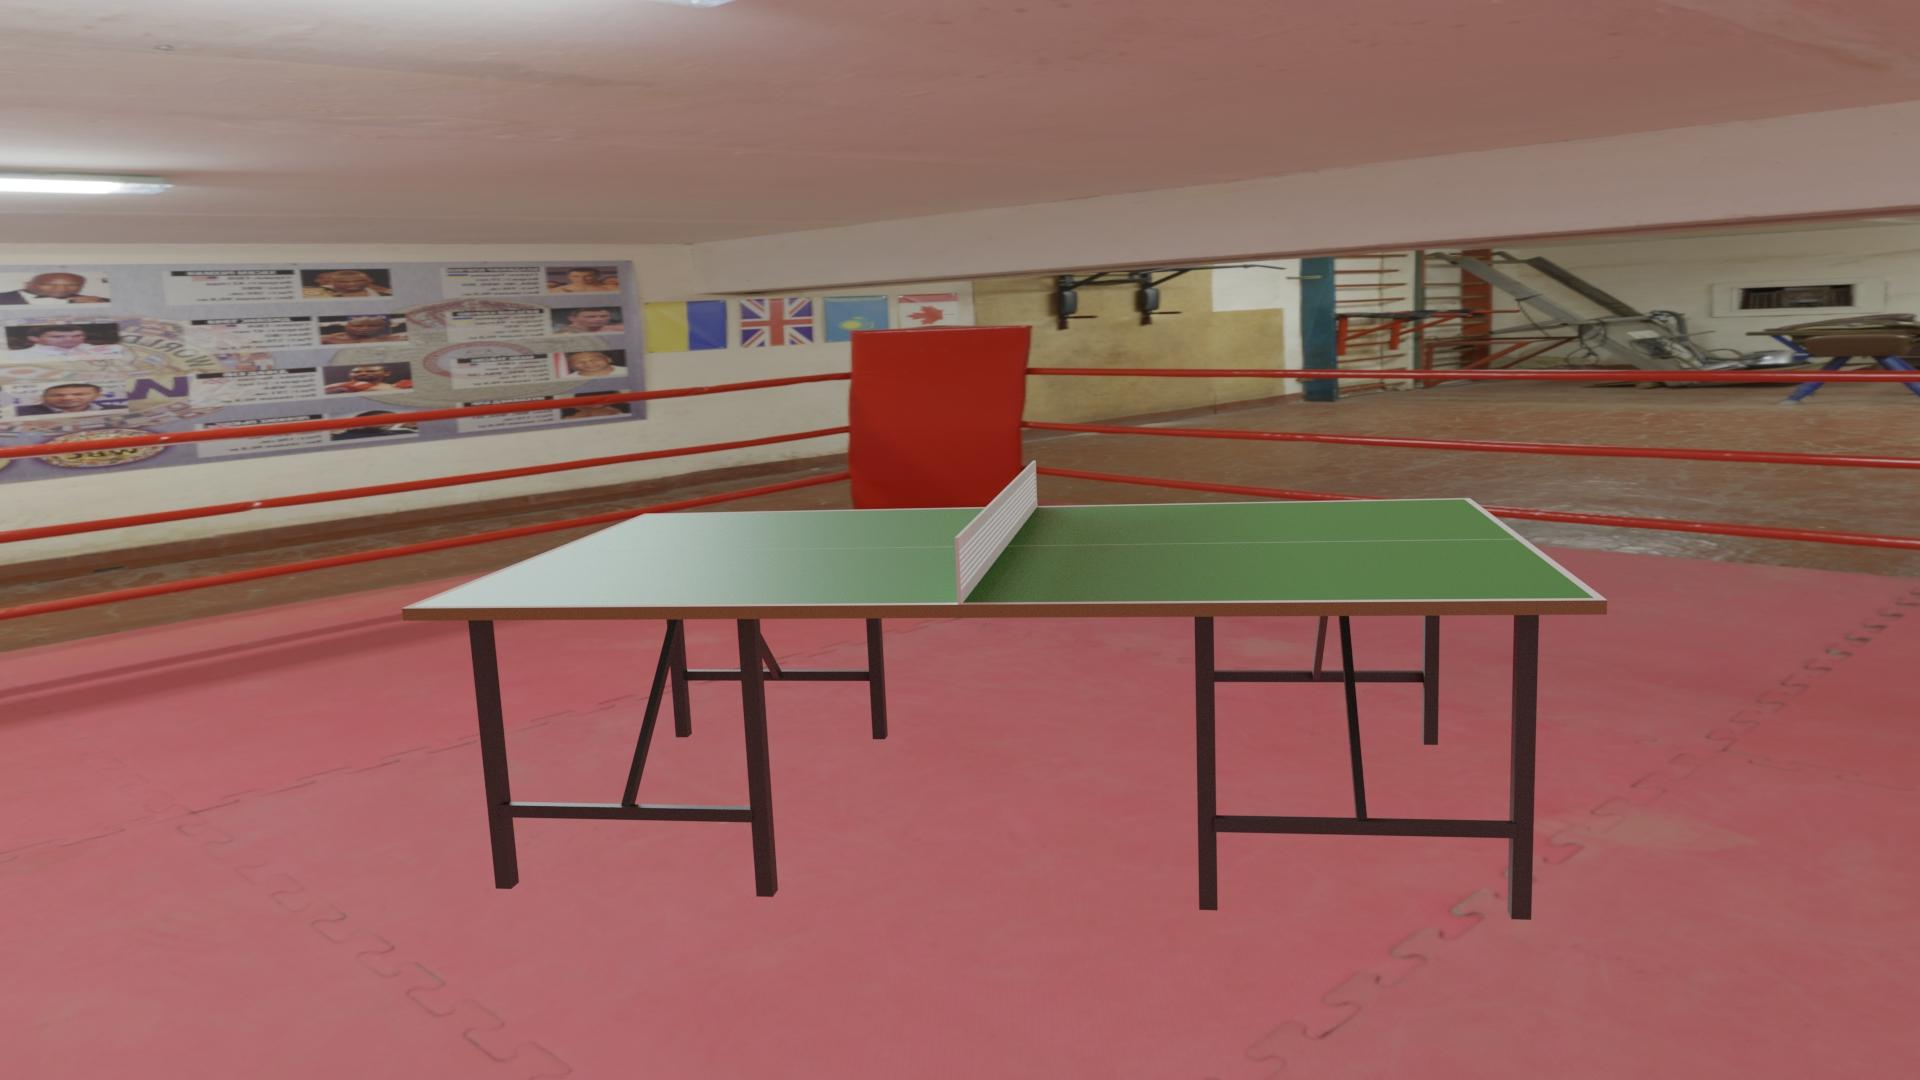table: (414, 500, 1594, 607)
